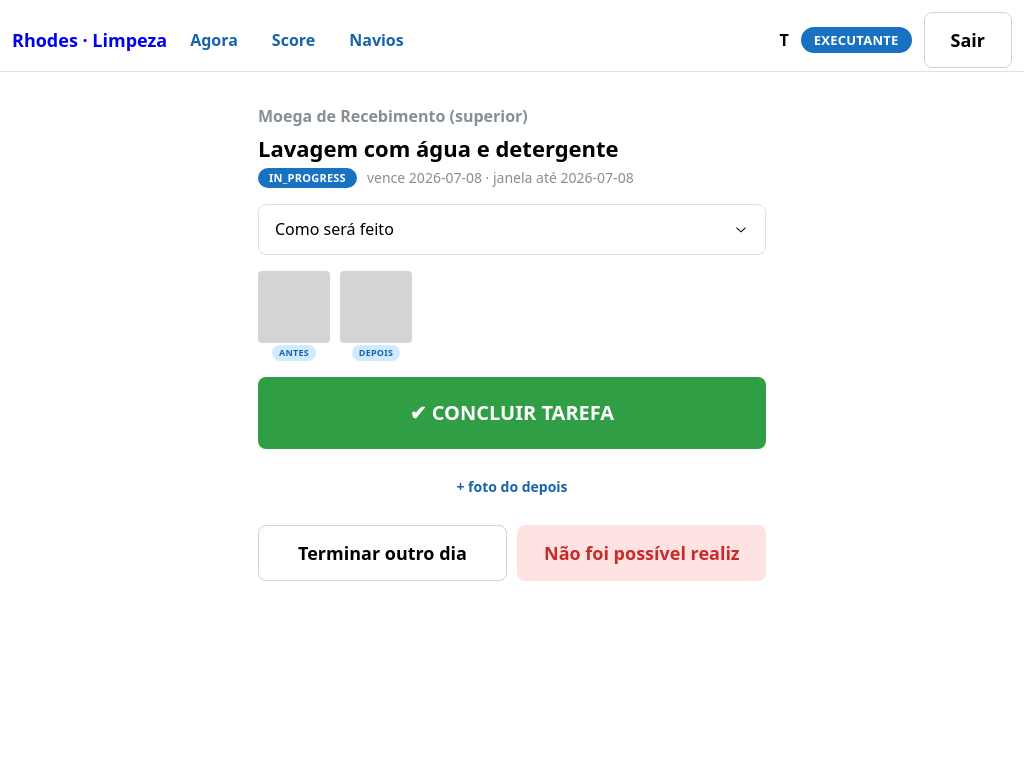
Scenario: tela da tarefa (1 tarefa = 1 tela) › com ANTES+DEPOIS: concluir mostra a tela de sucesso com o tempo medido
Click the button "✔ CONCLUIR TAREFA". click: (512, 413)
box: [258, 377, 766, 449]
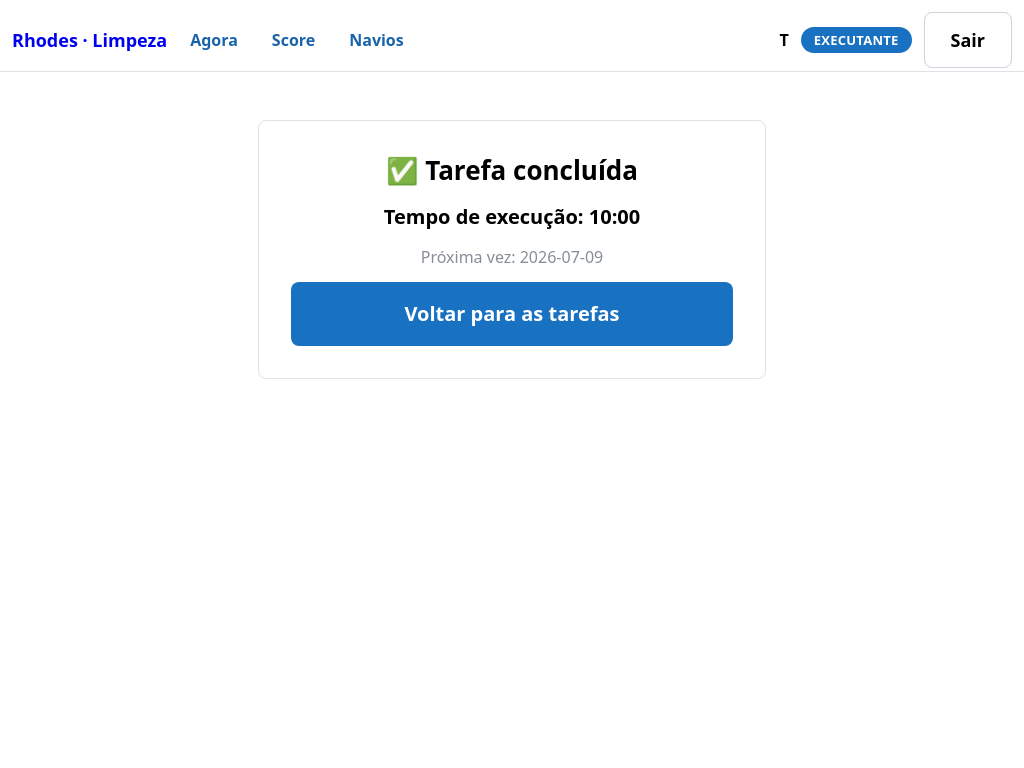
Check: the heading "✅ Tarefa concluída" is shown, box [386, 153, 638, 188]
Check: the text "Tempo de execução: 10:00" is shown, box [384, 200, 640, 233]
Check: the text "Próxima vez: 2026-07-09" is shown, box [421, 245, 603, 270]
